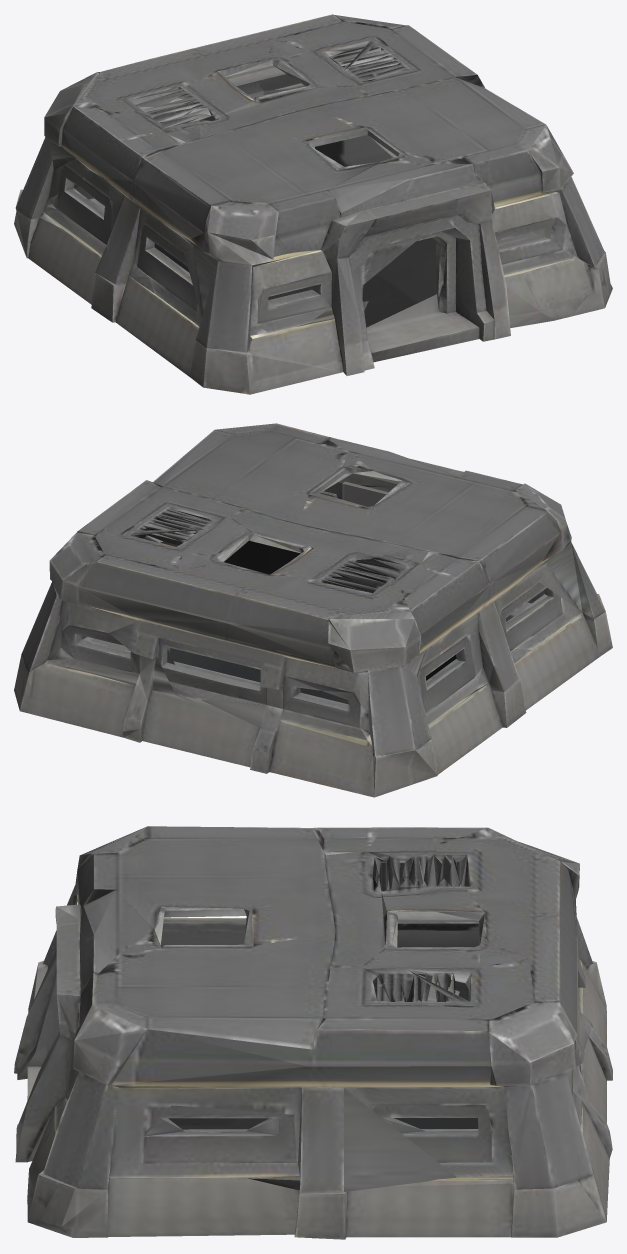
File: imperial_armoured_bunker_lod2.glb
3 views of the same model, one above another, from view 1: azimuth 30°, elevation 25°; view 2: azimuth 150°, elevation 25°; view 3: azimuth 270°, elevation 25° (orthographic). The views are drawn at different scales.
Parts seen in each view (by area): view 1: mesh_node; view 2: mesh_node; view 3: mesh_node.
Boxes of the visible parts, bbox=[...] form: mesh_node: bbox=[14, 14, 612, 394]; mesh_node: bbox=[14, 423, 612, 797]; mesh_node: bbox=[14, 826, 612, 1239].
Size of the model in its own units: 12.1 by 4.23 by 12.23.
1 material, 1 textured.
